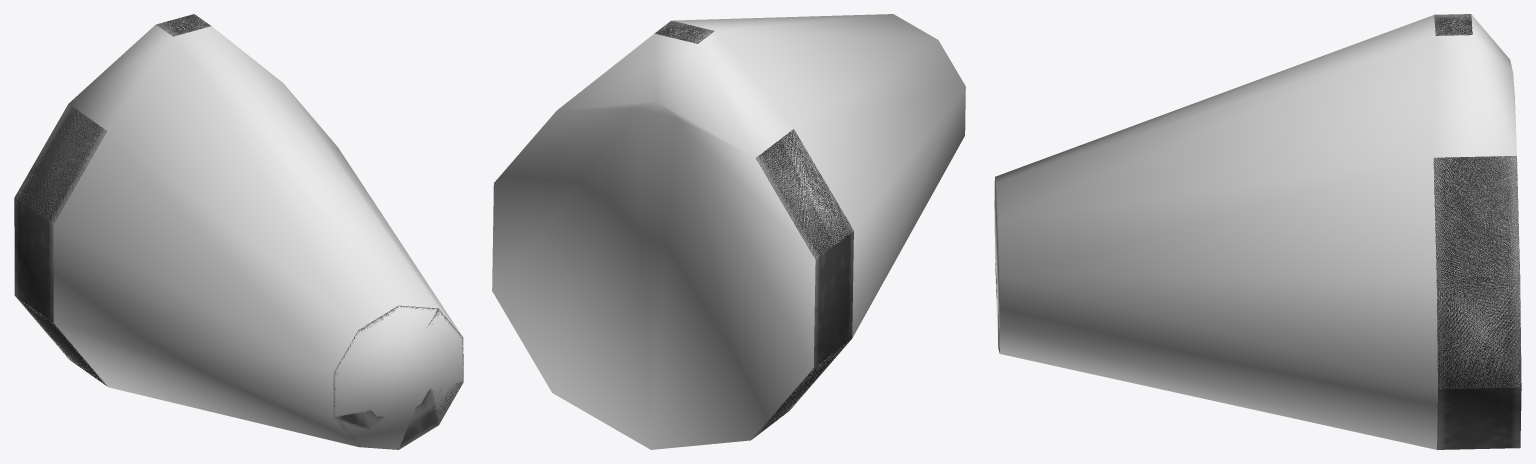
3 views of the same model, side by side, from view 1: azimuth 30°, elevation 25°; view 2: azimuth 150°, elevation 25°; view 3: azimuth 270°, elevation 25° (orthographic). The views are drawn at different scales.
Visible parts, largest first — view 1: weapon_machinegun_l_01_muzzle_col, weapon_machinegun_l_01_muzzle; view 2: weapon_machinegun_l_01_muzzle_col, weapon_machinegun_l_01_muzzle; view 3: weapon_machinegun_l_01_muzzle_col, weapon_machinegun_l_01_muzzle.
Part boxes in pixels (x1=…): weapon_machinegun_l_01_muzzle_col: x1=15, y1=14, x2=463, y2=449; weapon_machinegun_l_01_muzzle: x1=14, y1=14, x2=463, y2=449; weapon_machinegun_l_01_muzzle_col: x1=492, y1=14, x2=965, y2=449; weapon_machinegun_l_01_muzzle: x1=654, y1=20, x2=853, y2=439; weapon_machinegun_l_01_muzzle_col: x1=994, y1=14, x2=1521, y2=449; weapon_machinegun_l_01_muzzle: x1=995, y1=14, x2=1521, y2=449.
Size of the model in its own units: 0.075 by 0.089 by 0.1038.
1 material, 1 textured.
